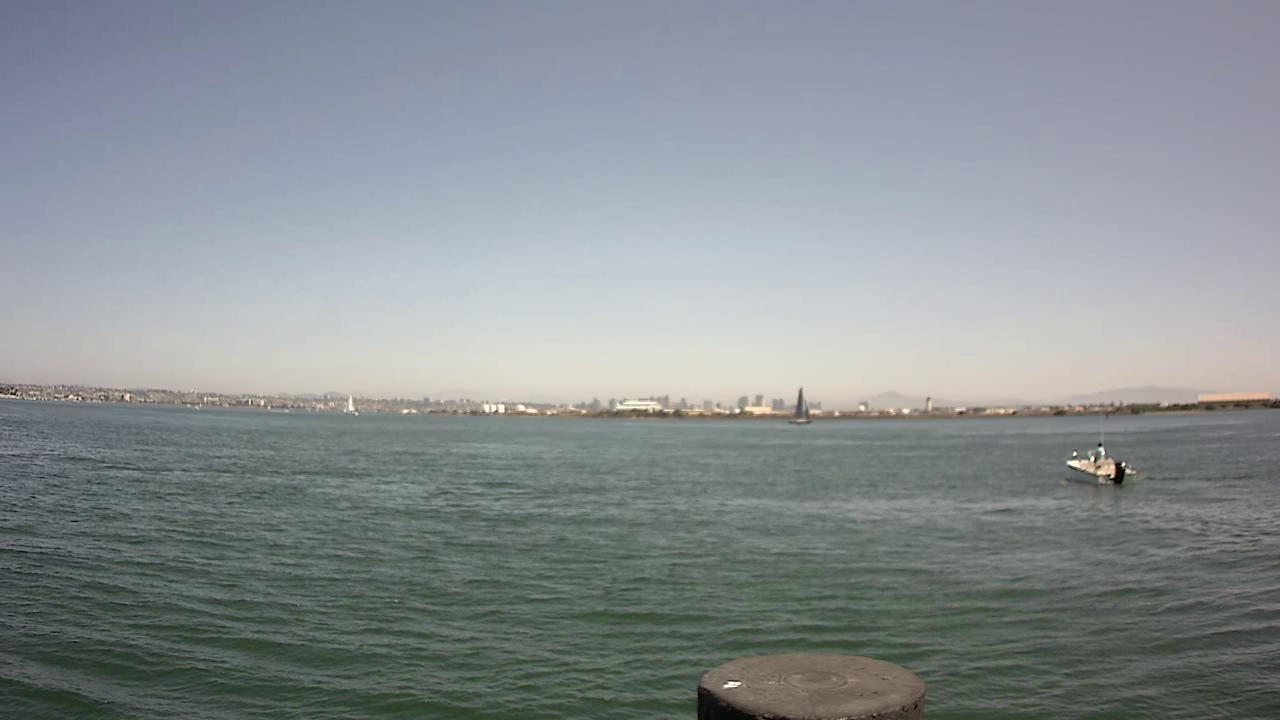target: (1059, 436, 1140, 488)
